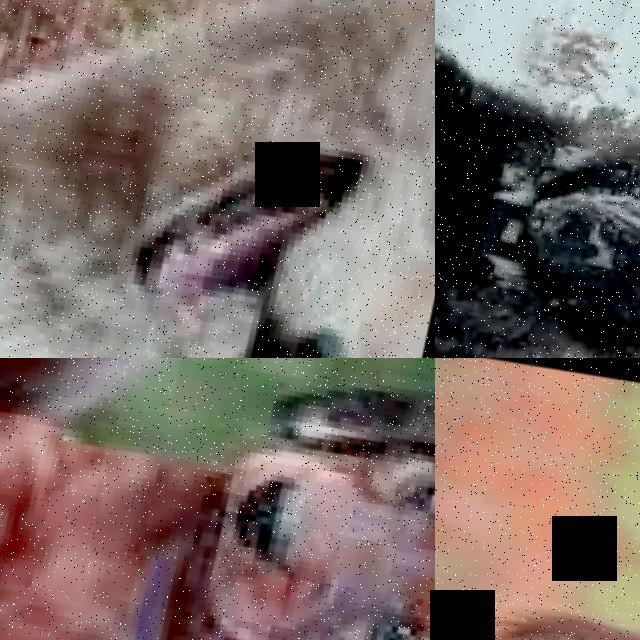dog: (0, 358, 435, 640), (0, 358, 435, 550), (435, 487, 640, 640)
wolf: (0, 0, 435, 358), (435, 0, 640, 358)
